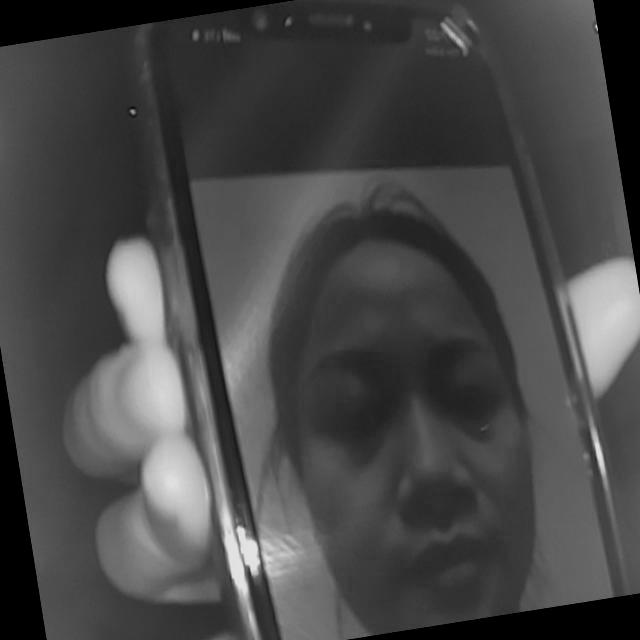fake: (121, 0, 640, 640)
